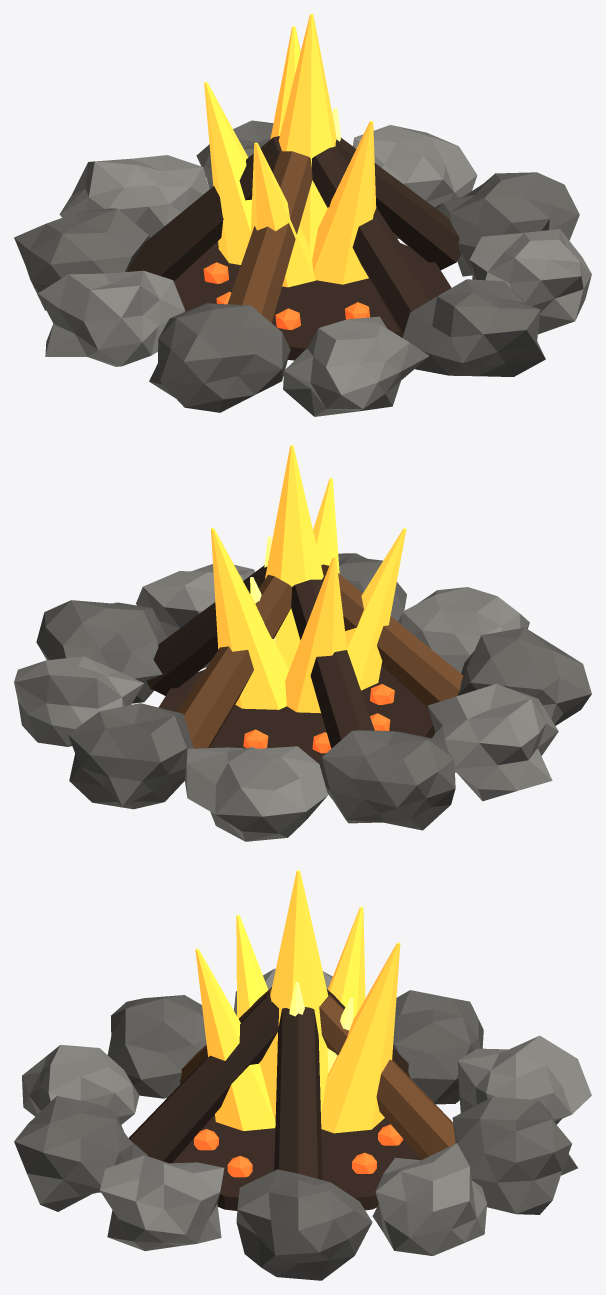
Rendered from isle_campfire_v01.glb.
3 renders of one model, top to bottom at view 1: azimuth 30°, elevation 25°; view 2: azimuth 150°, elevation 25°; view 3: azimuth 270°, elevation 25°, orthographic. The views are drawn at different scales.
Visible parts, largest first — view 1: campfire; view 2: campfire; view 3: campfire.
Part boxes in pixels (left/top/right/bottom): campfire: left=14, top=14, right=591, bottom=416; campfire: left=14, top=445, right=591, bottom=841; campfire: left=14, top=870, right=591, bottom=1280.
Bounding box in the file's own units: 1.66 × 0.9266 × 1.57.
